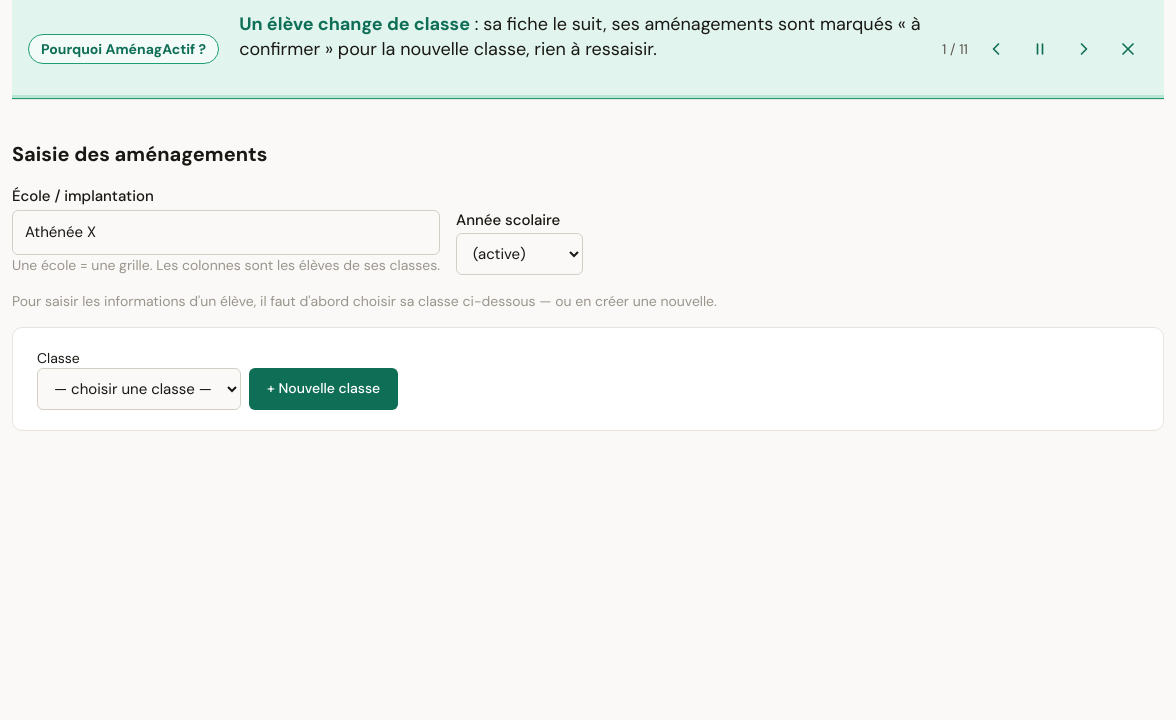
Scenario: SaisieEcole : dispositifs › (c bis) bascule vers AU refusée si un aménagement libre existe
Select "5LA — 5e" in the dropdown labelled "Classe" at (139, 389), box [37,368,241,410]
(page scrolled)
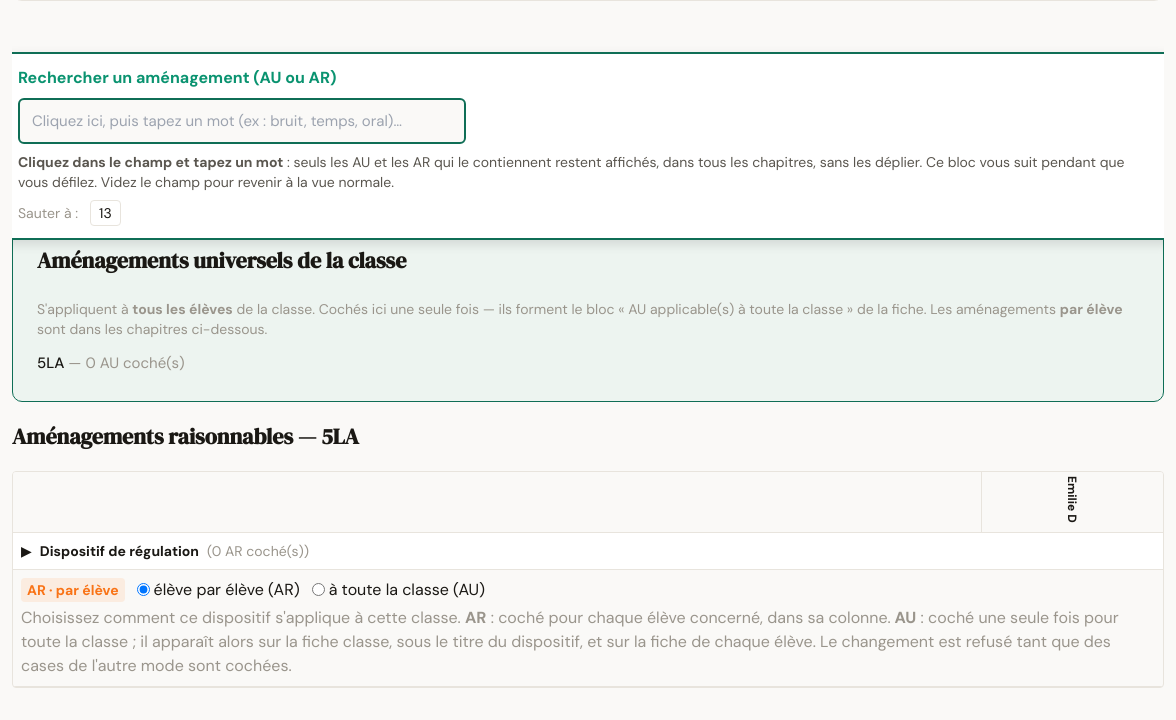
Click the radio button labelled "à toute la classe (AU)".
click(318, 590)  # box [312,583,325,596]
(page scrolled)
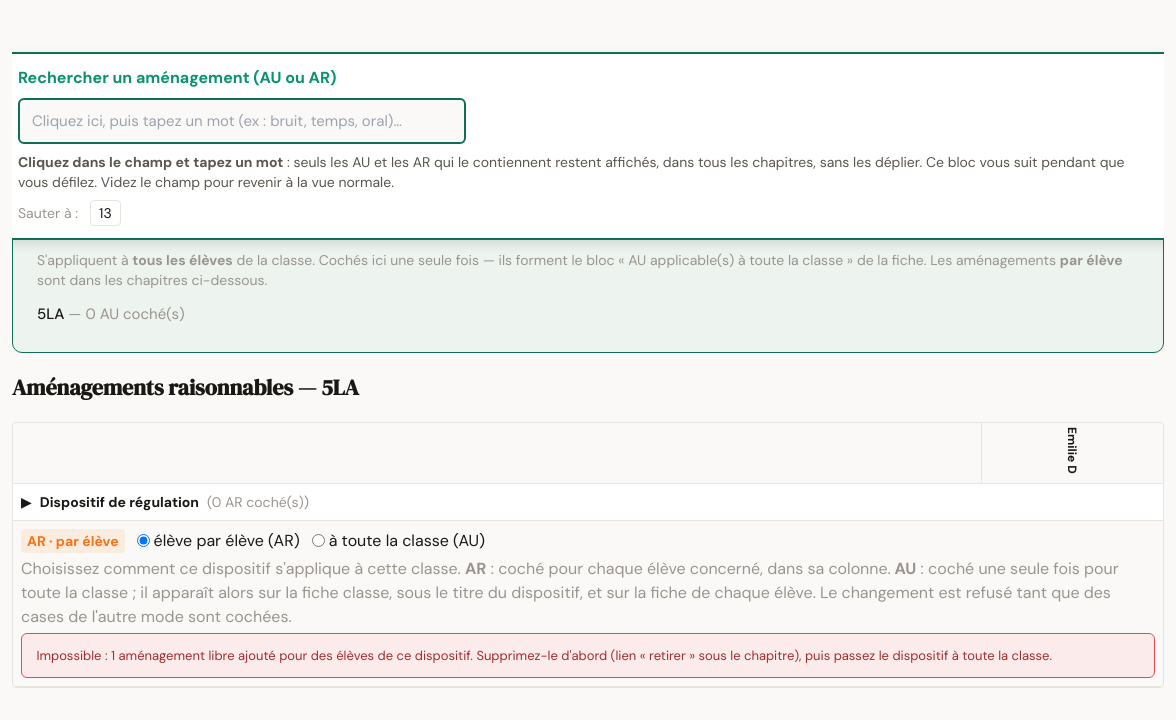
Expected: the message shows "libre", [36,646,1052,664]
